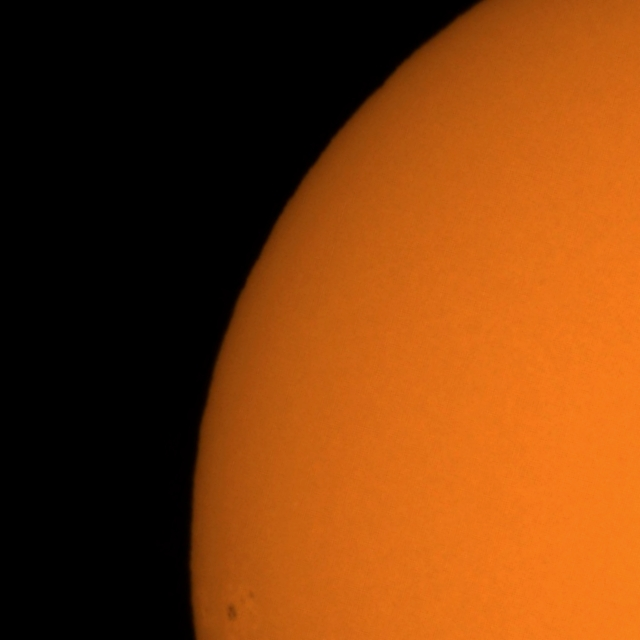sunspot: (224, 590, 256, 624)
